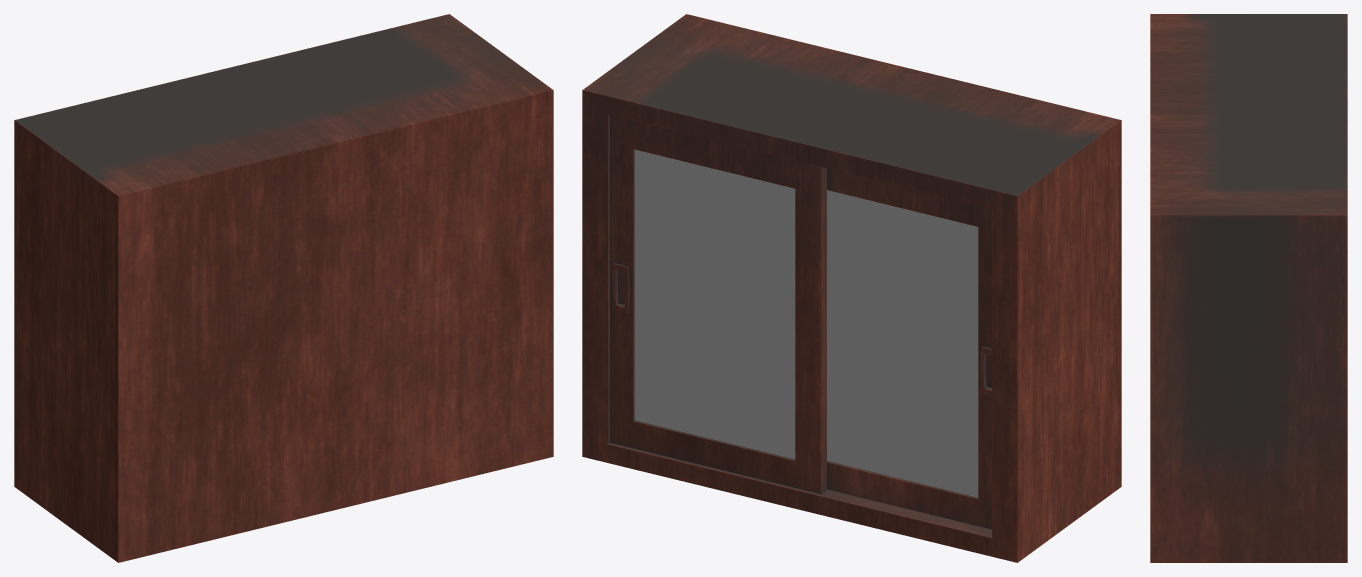
The model's file is SM_Kitchen_Storage_Closet.fbx.
The picture shows the model from 3 angles, left to right: view 1: azimuth 30°, elevation 25°; view 2: azimuth 150°, elevation 25°; view 3: azimuth 270°, elevation 25°; orthographic projection. The views are drawn at different scales.
Parts seen in each view (by area): view 1: SM_Kitchen_Storage_Closet; view 2: SM_Kitchen_Storage_Closet; view 3: SM_Kitchen_Storage_Closet.
Part boxes in pixels (x1=…): SM_Kitchen_Storage_Closet: x1=14, y1=14, x2=553, y2=562; SM_Kitchen_Storage_Closet: x1=582, y1=14, x2=1121, y2=562; SM_Kitchen_Storage_Closet: x1=1150, y1=14, x2=1347, y2=562.
Size of the model in its own units: 79.59 by 32.97 by 64.07.
Materials: 1 (1 with a texture image).
